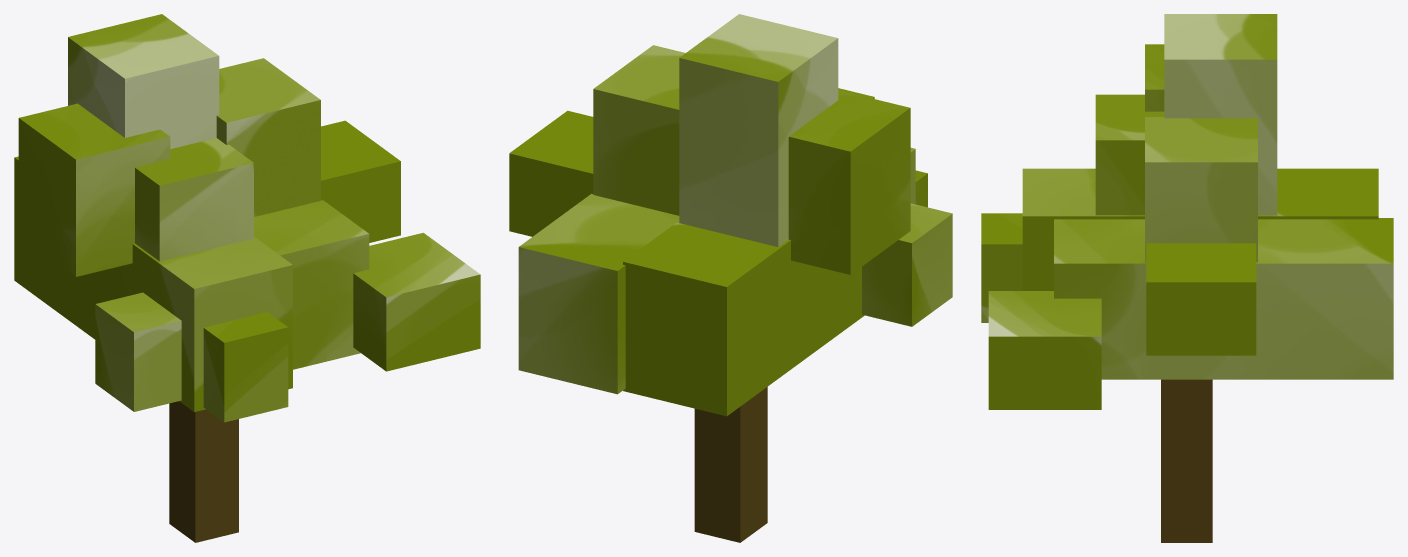
Rendered from tree02.FBX.
3 renders of one model, left to right at view 1: azimuth 30°, elevation 25°; view 2: azimuth 150°, elevation 25°; view 3: azimuth 270°, elevation 25°, orthographic. The views are drawn at different scales.
Parts seen in each view (by area): view 1: tree; view 2: tree; view 3: tree.
Part boxes in pixels (<box>): tree: <box>14,14,480,542</box>; tree: <box>509,14,952,542</box>; tree: <box>981,14,1393,542</box>.
Size of the model in its own units: 5.46 by 6.04 by 7.68.
